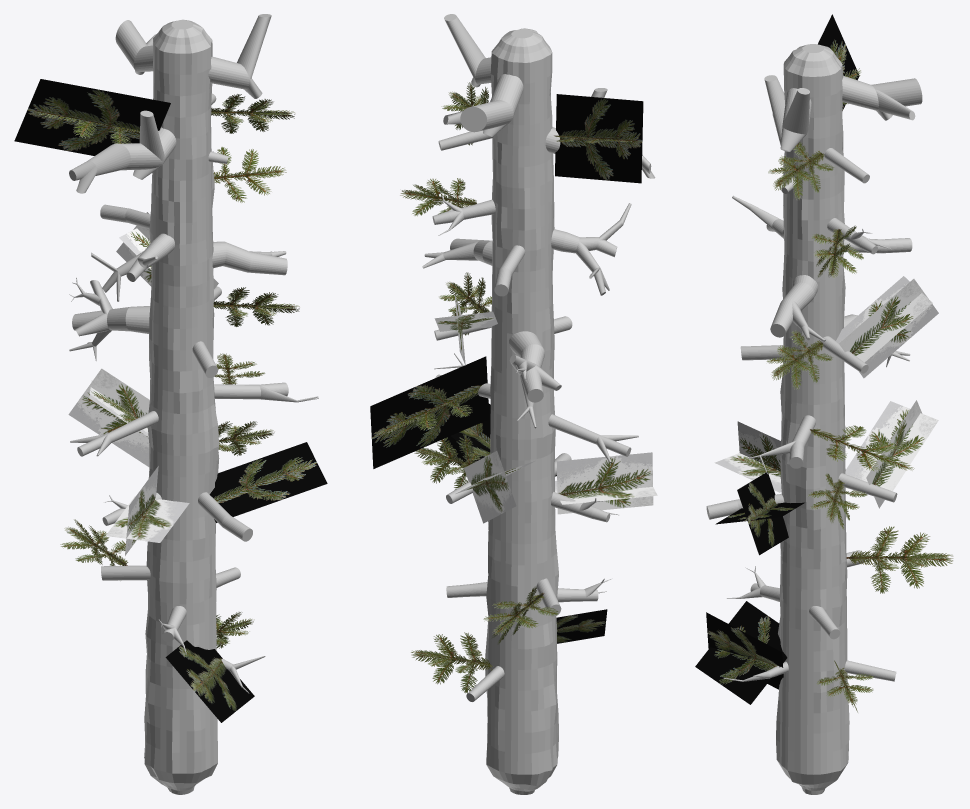
File: pinetree_level3.fbx
3 views of the same model, side by side, from view 1: azimuth 30°, elevation 25°; view 2: azimuth 150°, elevation 25°; view 3: azimuth 270°, elevation 25° (orthographic). The views are drawn at different scales.
Visible parts, largest first — view 1: PineTree_Level2_Cut; view 2: PineTree_Level2_Cut; view 3: PineTree_Level2_Cut.
Part boxes in pixels (x1,y1,x2,y2): PineTree_Level2_Cut: (14,14,327,794); PineTree_Level2_Cut: (370,14,657,794); PineTree_Level2_Cut: (695,14,953,794).
Size of the model in its own units: 203 by 550 by 175.
